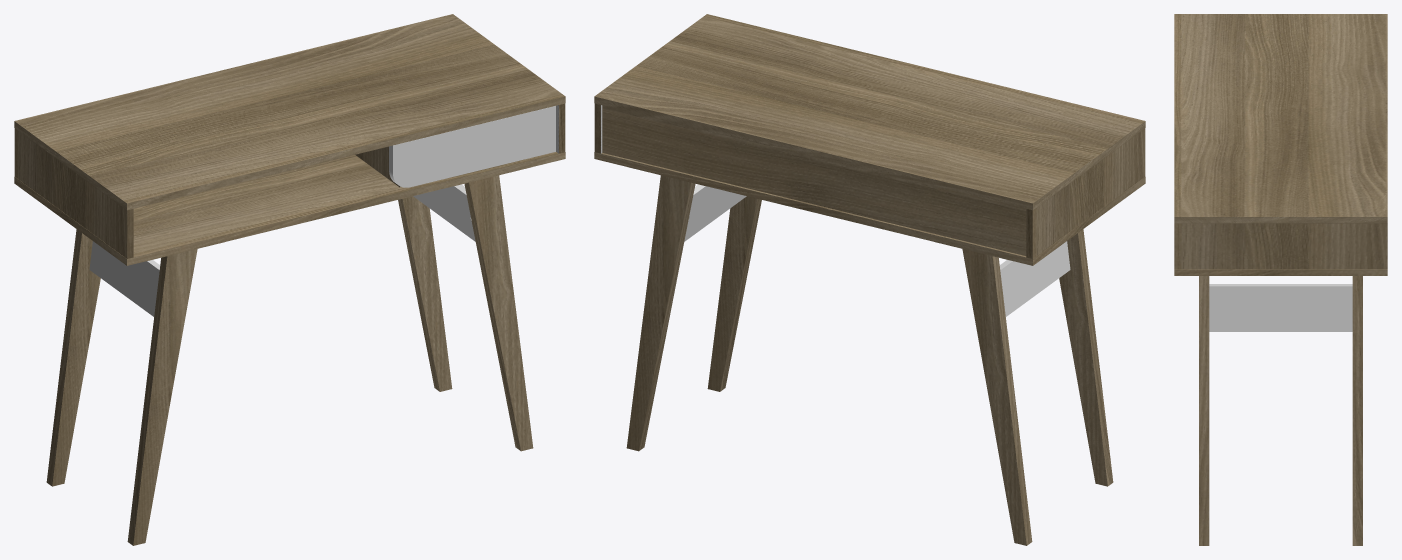
The picture shows the model from 3 angles, left to right: view 1: azimuth 30°, elevation 25°; view 2: azimuth 150°, elevation 25°; view 3: azimuth 270°, elevation 25°; orthographic projection. The views are drawn at different scales.
Visible parts, largest first — view 1: A334271-TAPASXXXTA, A334271-PISOSXXXPI, Simetruc801334271-PATASXXXPA, A334271-FRENTEXXCA, A334271-PATASXXXPA001, A334271-PATASXXXPA, A334271-COSTADOSSP, Simetruc801334271-PATASXXXPA001, A334271-PATASXXXRE, A334271-PATASXXXRE001; view 2: A334271-TAPASXXXTA, A334271-FONDOSXXFN, A334271-PATASXXXPA, Simetruc801334271-PATASXXXPA001, Simetruc801334271-PATASXXXPA, A334271-COSTADOSSP, A334271-PATASXXXPA001, A334271-PISOSXXXPI, A334271-PATASXXXRE, A334271-PATASXXXRE001; view 3: A334271-TAPASXXXTA, A334271-COSTADOSCO, A334271-PATASXXXRE001, A334271-PATASXXXPA001, Simetruc801334271-PATASXXXPA001, A334271-PISOSXXXPI.
Part boxes in pixels (x1,y1,x2,y2): A334271-TAPASXXXTA: [14, 14, 565, 210]; A334271-PISOSXXXPI: [14, 152, 565, 265]; Simetruc801334271-PATASXXXPA: [127, 249, 197, 545]; A334271-FRENTEXXCA: [389, 106, 555, 187]; A334271-PATASXXXPA001: [464, 175, 533, 451]; A334271-PATASXXXPA: [46, 229, 100, 486]; A334271-COSTADOSSP: [14, 128, 133, 258]; Simetruc801334271-PATASXXXPA001: [398, 196, 452, 391]; A334271-PATASXXXRE: [89, 241, 160, 316]; A334271-PATASXXXRE001: [413, 184, 475, 241]; A334271-TAPASXXXTA: [594, 14, 1145, 210]; A334271-FONDOSXXFN: [602, 105, 1026, 255]; A334271-PATASXXXPA: [962, 249, 1032, 545]; Simetruc801334271-PATASXXXPA001: [626, 175, 695, 451]; Simetruc801334271-PATASXXXPA: [1059, 229, 1113, 486]; A334271-COSTADOSSP: [1026, 128, 1145, 258]; A334271-PATASXXXPA001: [707, 196, 761, 391]; A334271-PISOSXXXPI: [594, 152, 1145, 265]; A334271-PATASXXXRE: [999, 241, 1070, 316]; A334271-PATASXXXRE001: [684, 184, 746, 241]; A334271-TAPASXXXTA: [1174, 14, 1387, 223]; A334271-COSTADOSCO: [1174, 223, 1387, 269]; A334271-PATASXXXRE001: [1209, 284, 1352, 331]; A334271-PATASXXXPA001: [1199, 276, 1209, 545]; Simetruc801334271-PATASXXXPA001: [1352, 276, 1362, 545]; A334271-PISOSXXXPI: [1174, 269, 1387, 275].
Bounding box in the file's own units: 1 × 0.777 × 0.445.
Materials: 1 (1 with a texture image).
